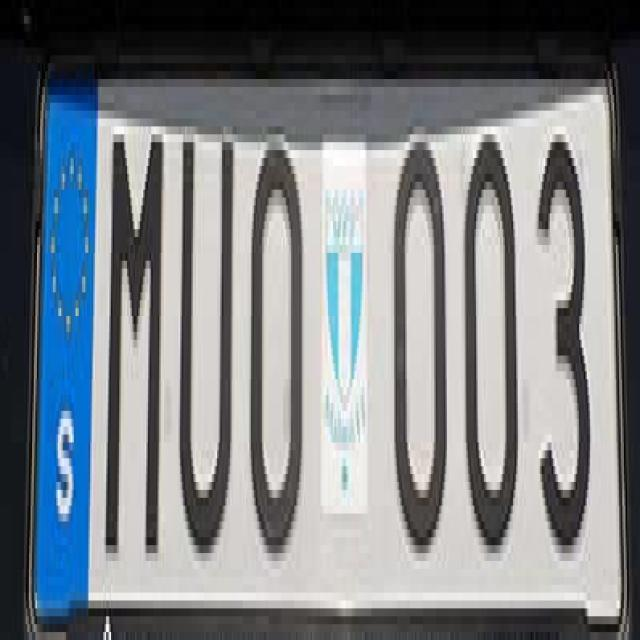EU: (38, 76, 622, 640)
Suede: (46, 93, 93, 607)
